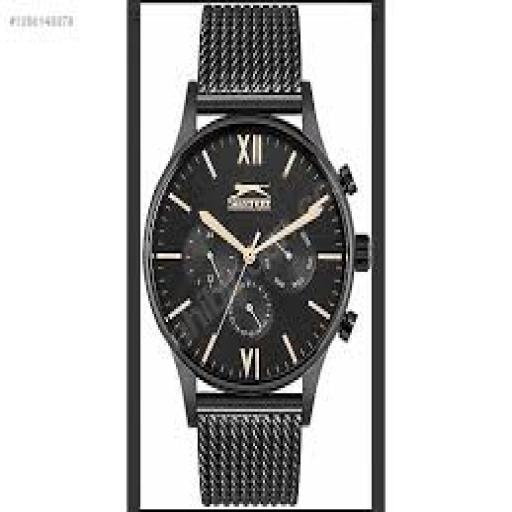KolSaati: (142, 3, 384, 512)
